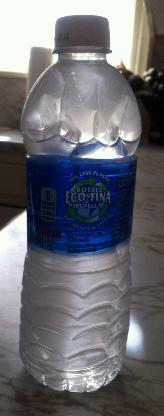Plastic Bottle: (7, 5, 161, 402)
